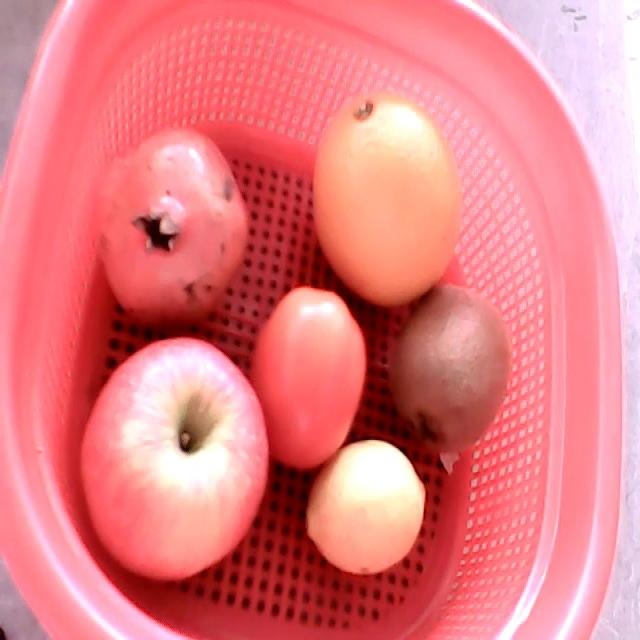apple: (80, 337, 268, 580)
kiwi: (390, 283, 513, 453)
lemon: (305, 440, 427, 574)
orange: (312, 93, 462, 308)
pomegranate: (92, 128, 250, 327)
tomato: (250, 290, 364, 468)
